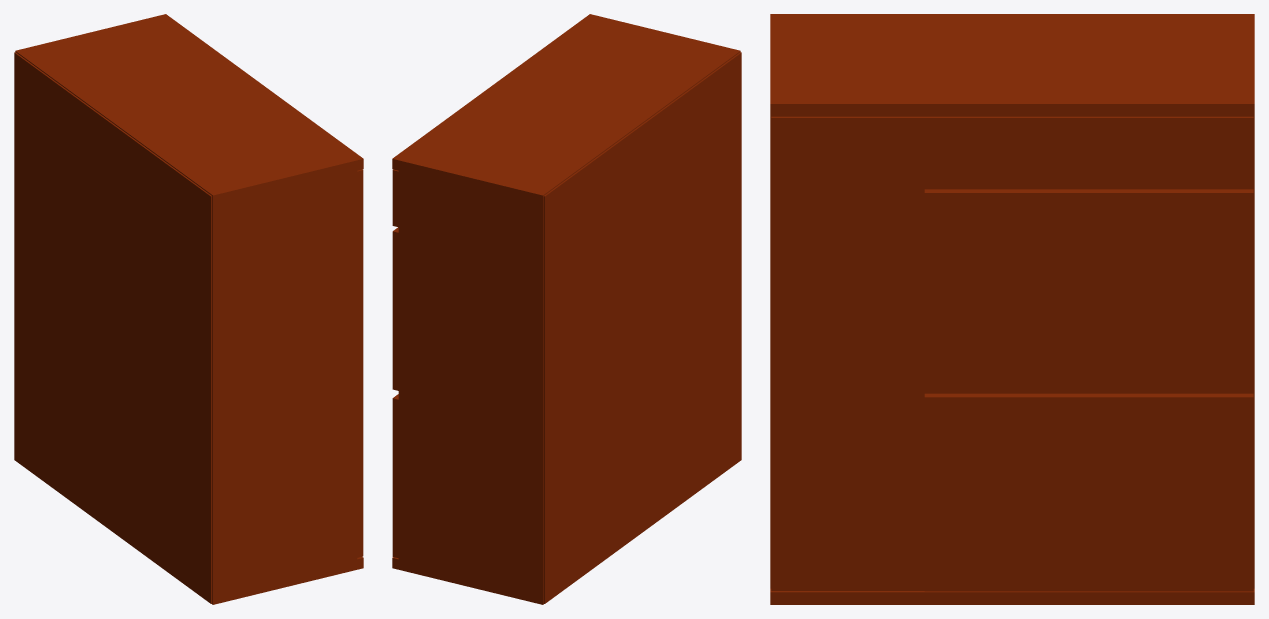
File: furniture.dae
The picture shows the model from 3 angles, left to right: view 1: azimuth 30°, elevation 25°; view 2: azimuth 150°, elevation 25°; view 3: azimuth 270°, elevation 25°; orthographic projection. The views are drawn at different scales.
Visible parts, largest first — view 1: Polygon; view 2: Polygon; view 3: Polygon.
Part boxes in pixels (x1=…): Polygon: x1=14, y1=14, x2=363, y2=604; Polygon: x1=392, y1=14, x2=741, y2=604; Polygon: x1=770, y1=14, x2=1254, y2=604.
Size of the model in its own units: 400 by 1028 by 900.
